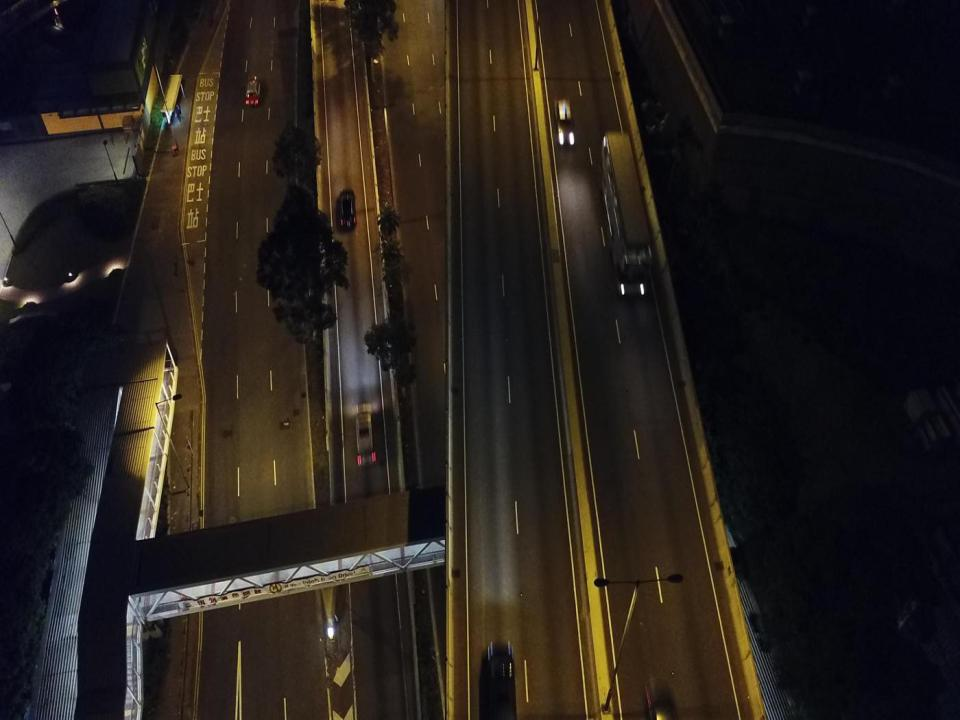bus: (599, 131, 653, 297)
car: (486, 645, 518, 716), (354, 404, 376, 469), (555, 100, 577, 150), (339, 189, 357, 229), (246, 75, 261, 105)
